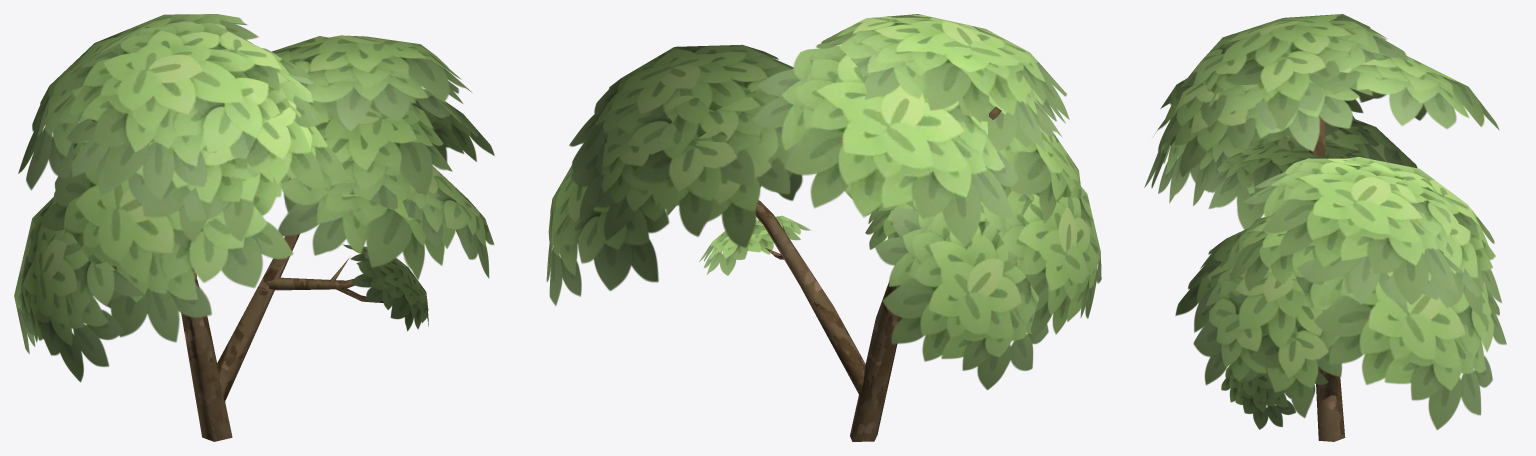
Rendered from street-tree-4-lo.glb.
3 renders of one model, left to right at view 1: azimuth 30°, elevation 25°; view 2: azimuth 150°, elevation 25°; view 3: azimuth 270°, elevation 25°, orthographic. The views are drawn at different scales.
Parts seen in each view (by area): view 1: Tree_8; view 2: Tree_8; view 3: Tree_8.
Part boxes in pixels (x1,y1,x2,y2): Tree_8: (14, 14, 494, 441); Tree_8: (546, 14, 1101, 441); Tree_8: (1144, 14, 1506, 441).
Size of the model in its own units: 7.05 by 5.66 by 5.2.
2 materials, 2 textured.
